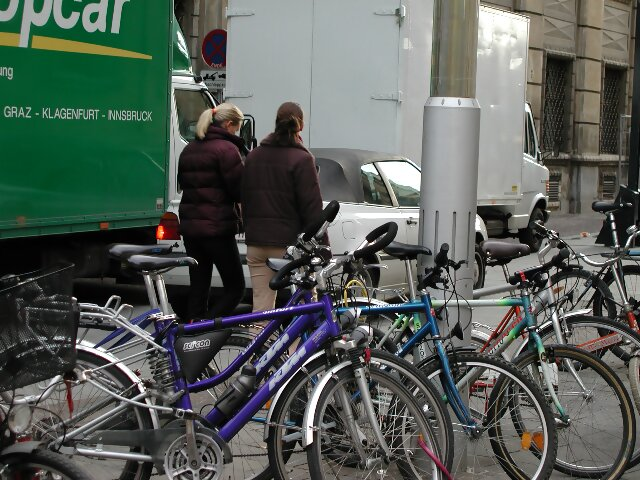person: (176, 98, 256, 332), (247, 100, 329, 319)
